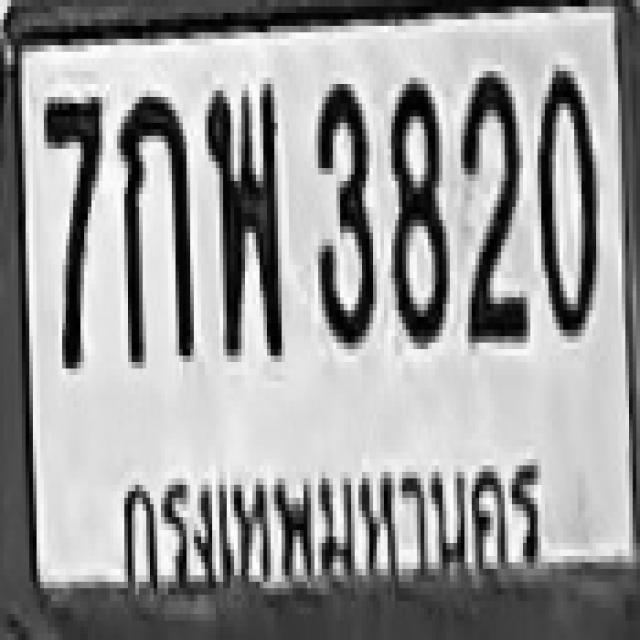0: (538, 65, 596, 336)
10GorGai: (117, 91, 190, 362)
2: (462, 68, 524, 339)
3: (315, 78, 373, 342)
39PhorPan: (204, 81, 282, 352)
7: (41, 94, 102, 365)
8: (388, 78, 446, 342)
Bangkok: (108, 436, 550, 586)
